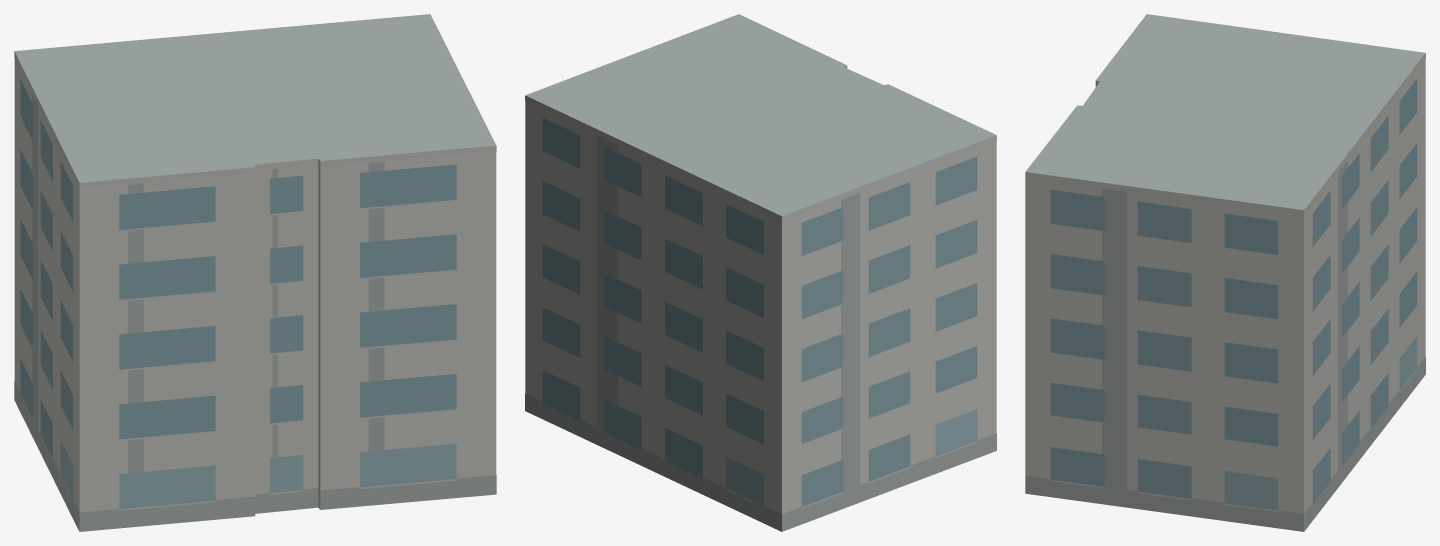
File: survey-upis-32533309.glb
The picture shows the model from 3 angles, left to right: view 1: azimuth 30°, elevation 25°; view 2: azimuth 150°, elevation 25°; view 3: azimuth 270°, elevation 25°; orthographic projection. The views are drawn at different scales.
Parts seen in each view (by area): view 1: survey-upis-32533309.tmp; view 2: survey-upis-32533309.tmp; view 3: survey-upis-32533309.tmp.
Part boxes in pixels (x1,y1,x2,y2): survey-upis-32533309.tmp: (14, 14, 496, 531); survey-upis-32533309.tmp: (525, 14, 996, 531); survey-upis-32533309.tmp: (1025, 14, 1425, 531).
Bounding box in the file's own units: 17.15 × 13.1 × 14.79.
